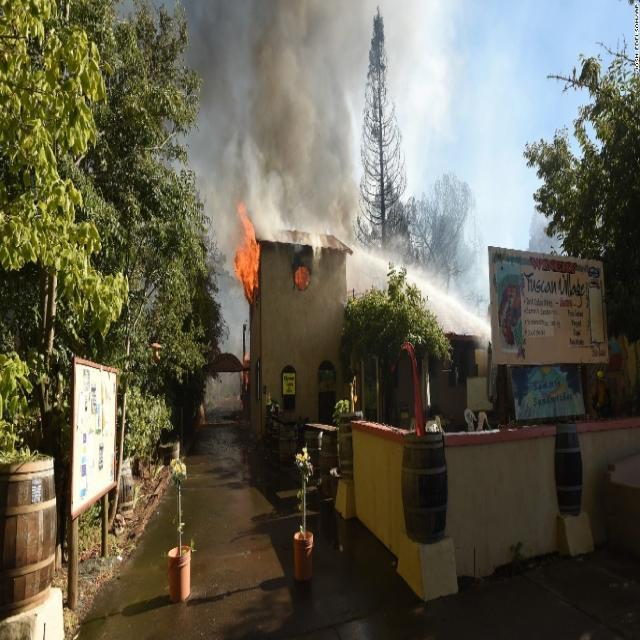Fire: (232, 198, 260, 304), (293, 264, 310, 292)
Smoke: (117, 1, 566, 361)
